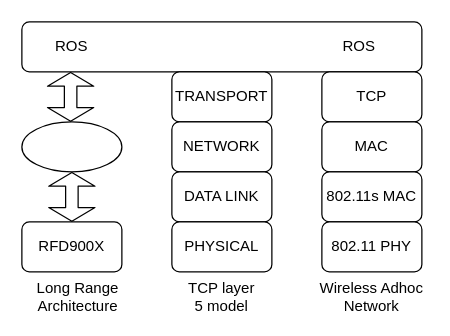
This 450x336 diagram has some shape labels left out. The shapes that lost their labels are listed below. From the top down, each one's box as (x1, y1, x2, y2) in pixels, then its label:
(21, 21, 422, 72): APPLICATION
(21, 121, 122, 172): serialros
